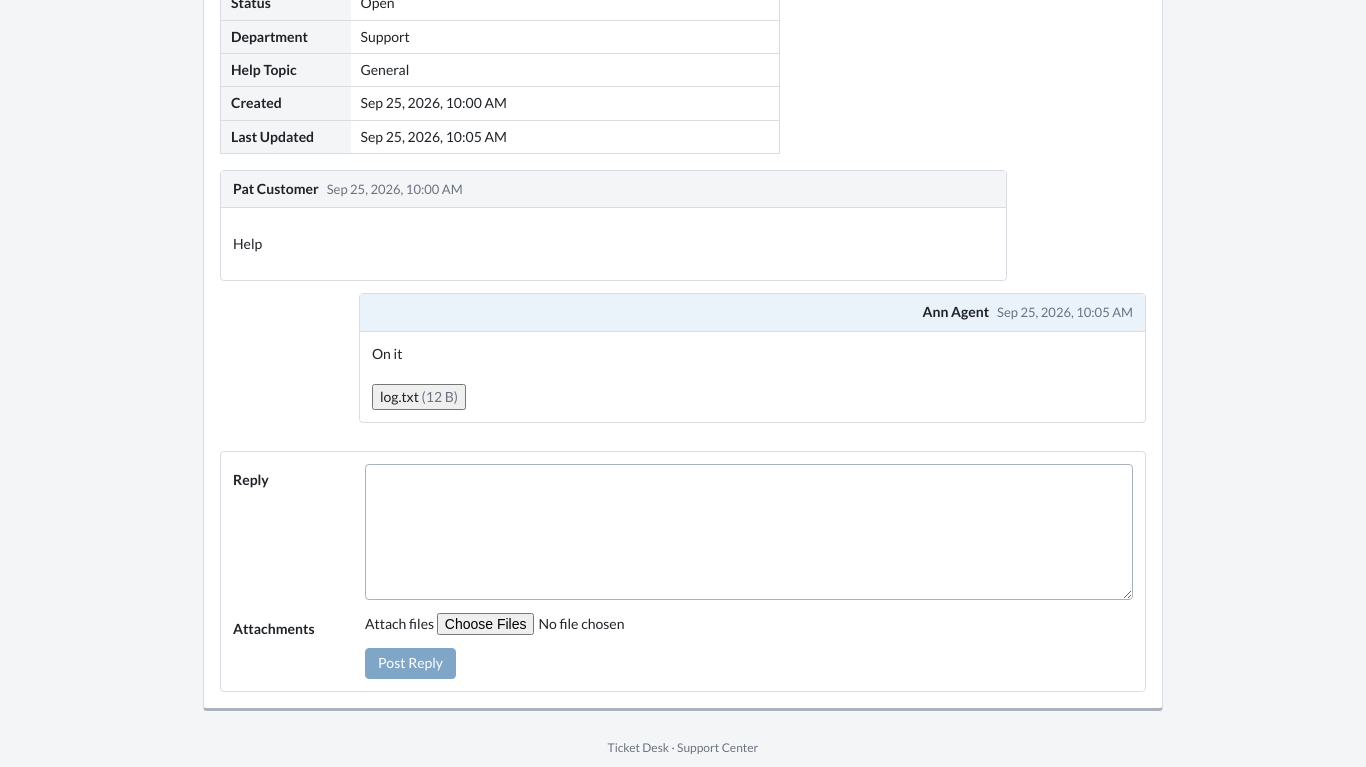
Test: lets a guest session view and reply without a My Tickets link
(page scrolled)
Type "Guest reply" into the text box labelled "Reply" at (749, 532), box [365,464,1133,600]
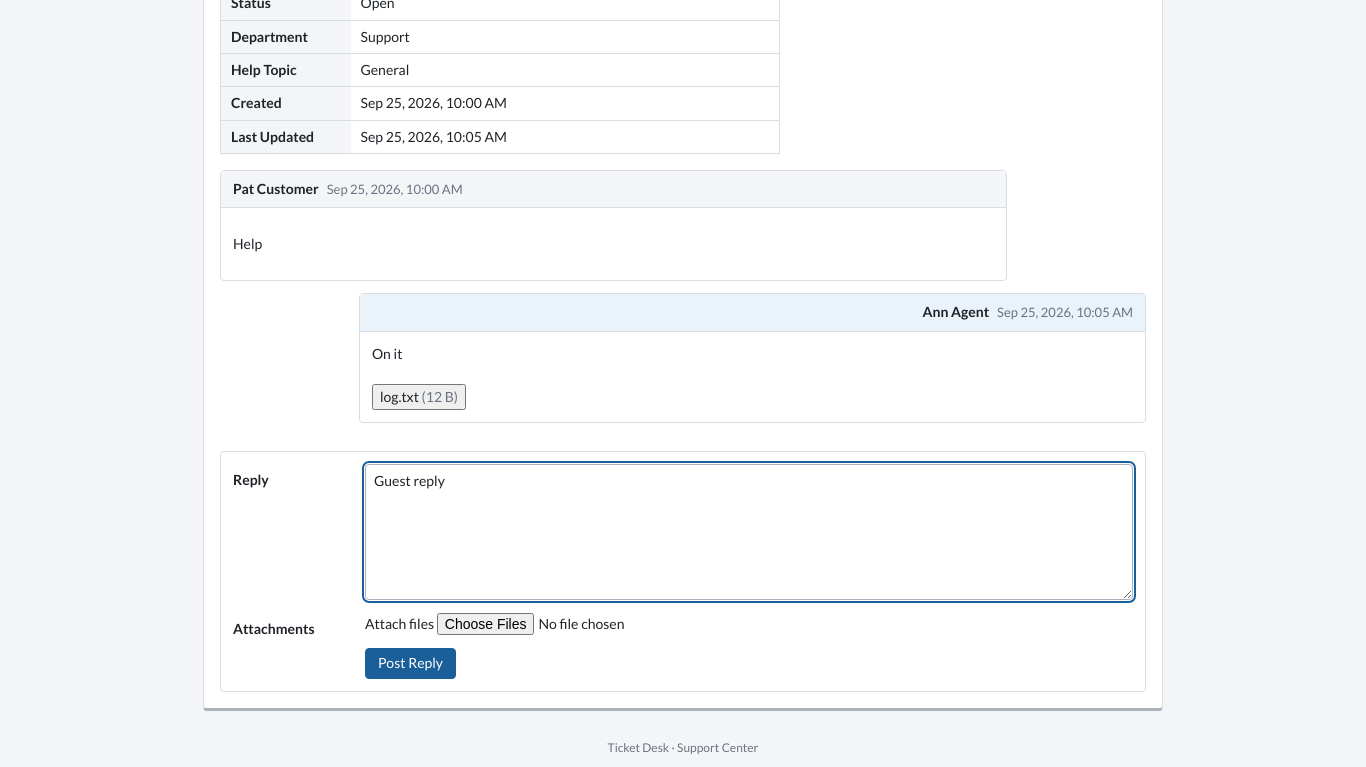
Click the button "Post Reply" at (410, 663), box [365,648,456,678]
(page scrolled)
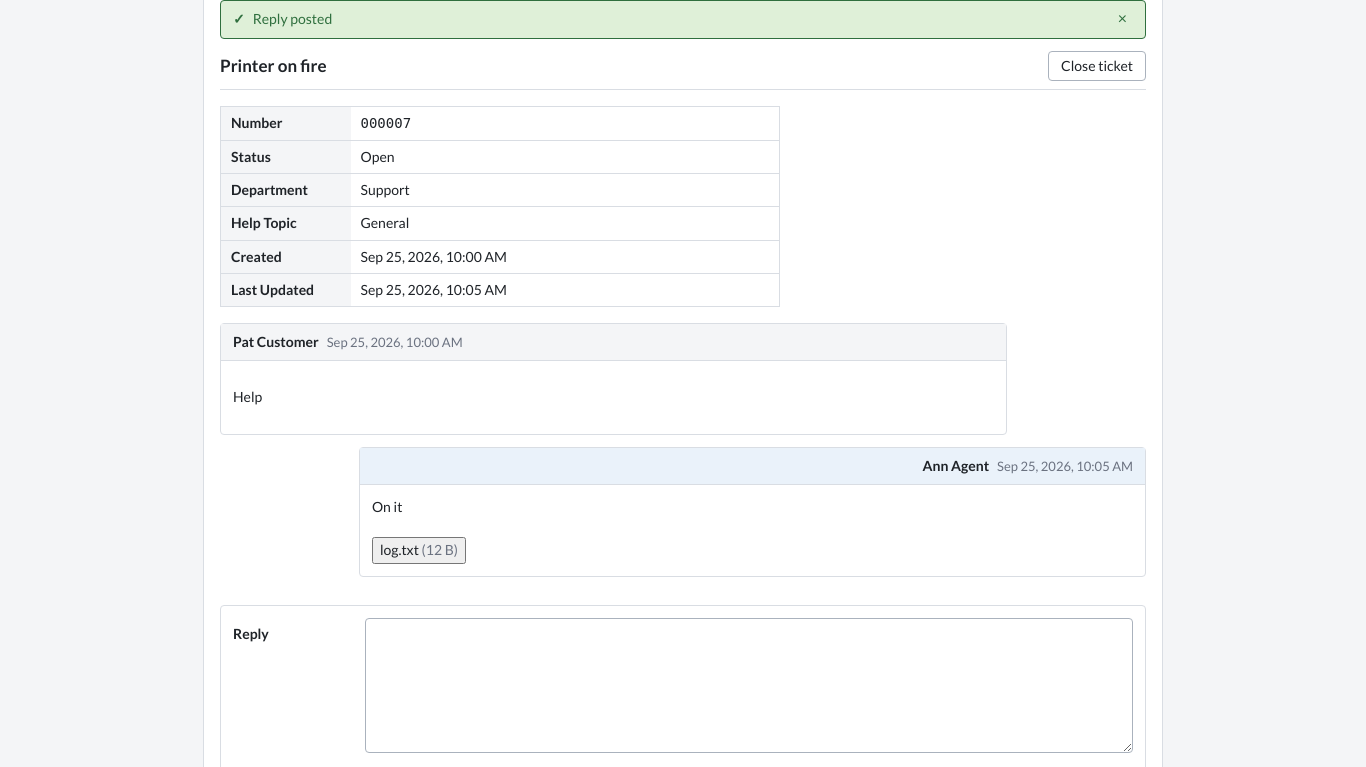
Now the text "Reply posted" is shown, box [253,10,332,27]
